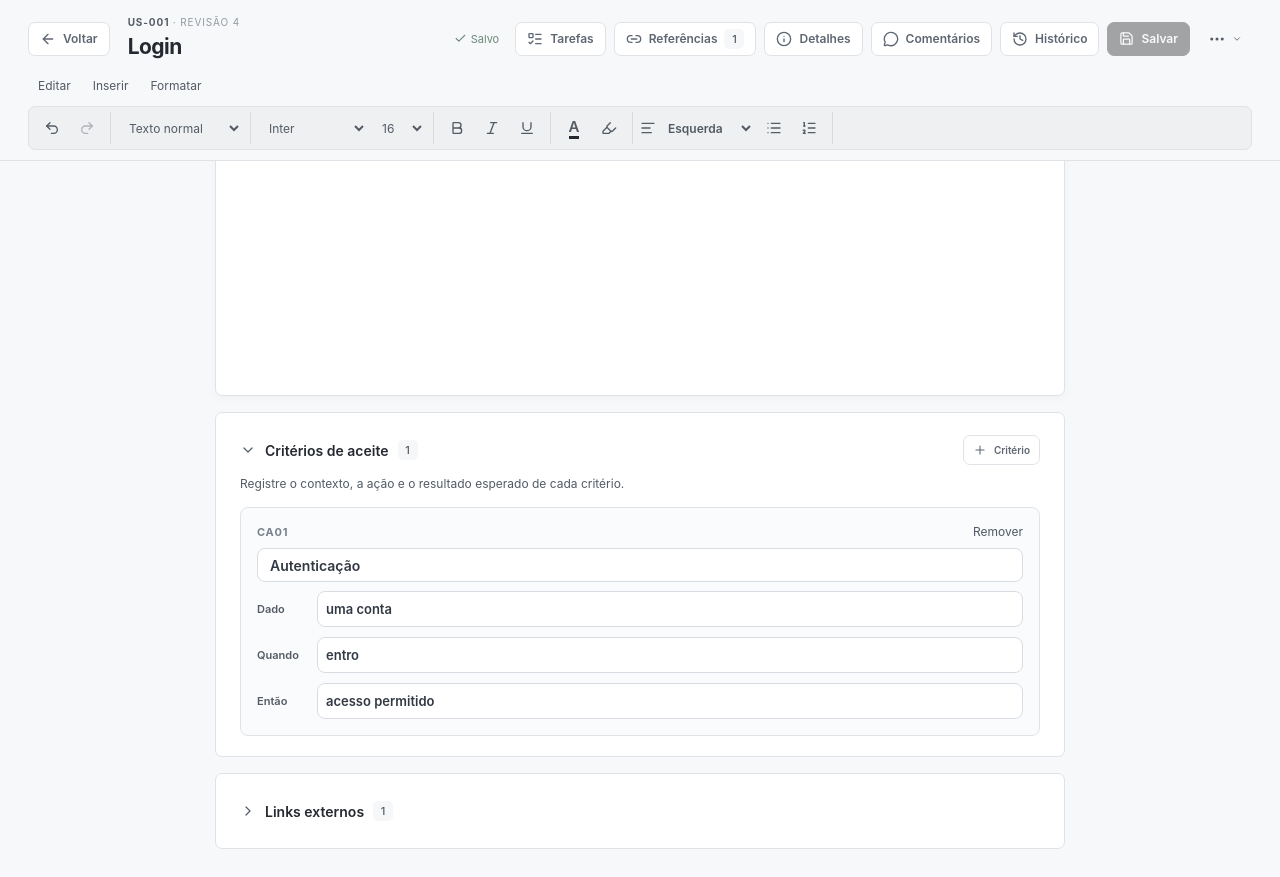
Test case: requirement document workflow › starts clean, expands existing criteria, and focuses each added criterion
(page scrolled)
Expected: the button "Salvar" is disabled, [1108,22,1190,56]
Click the button "Critério". click: [1001, 450]
box: [963,435,1040,465]
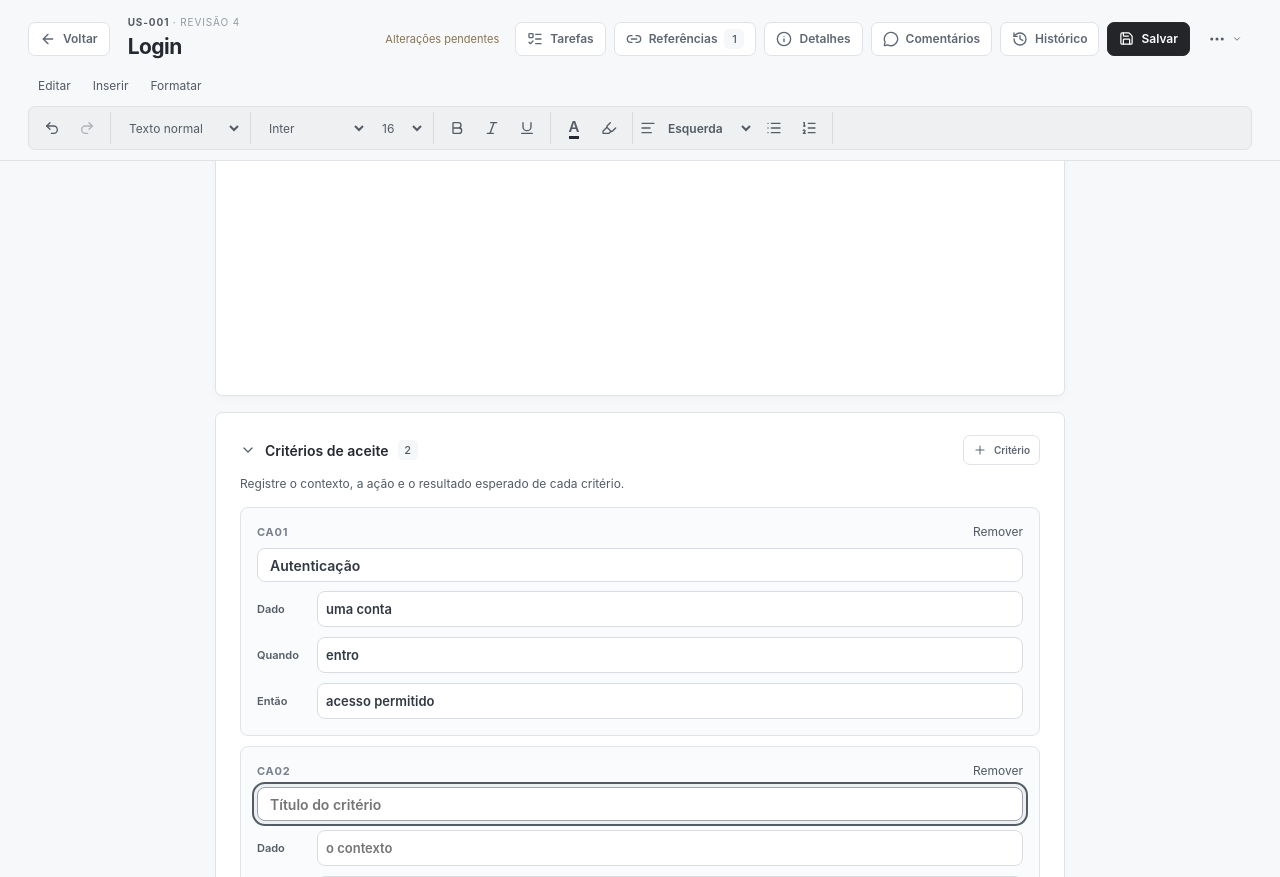
Result: the button "Salvar" is enabled at [1108,22,1190,56]
